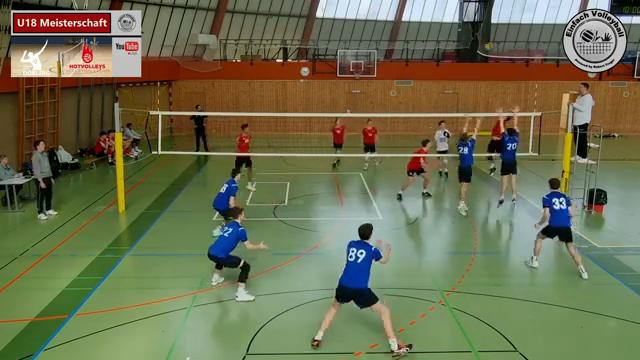Attack: (483, 103, 513, 179)
Block: (449, 111, 482, 218), (493, 104, 525, 211)
Player: (311, 223, 411, 356), (525, 178, 587, 279), (208, 207, 267, 301), (397, 139, 431, 200), (212, 168, 241, 236), (235, 124, 255, 190), (362, 119, 378, 169), (331, 118, 345, 167), (434, 120, 451, 154)
ball: (485, 42, 493, 51)
